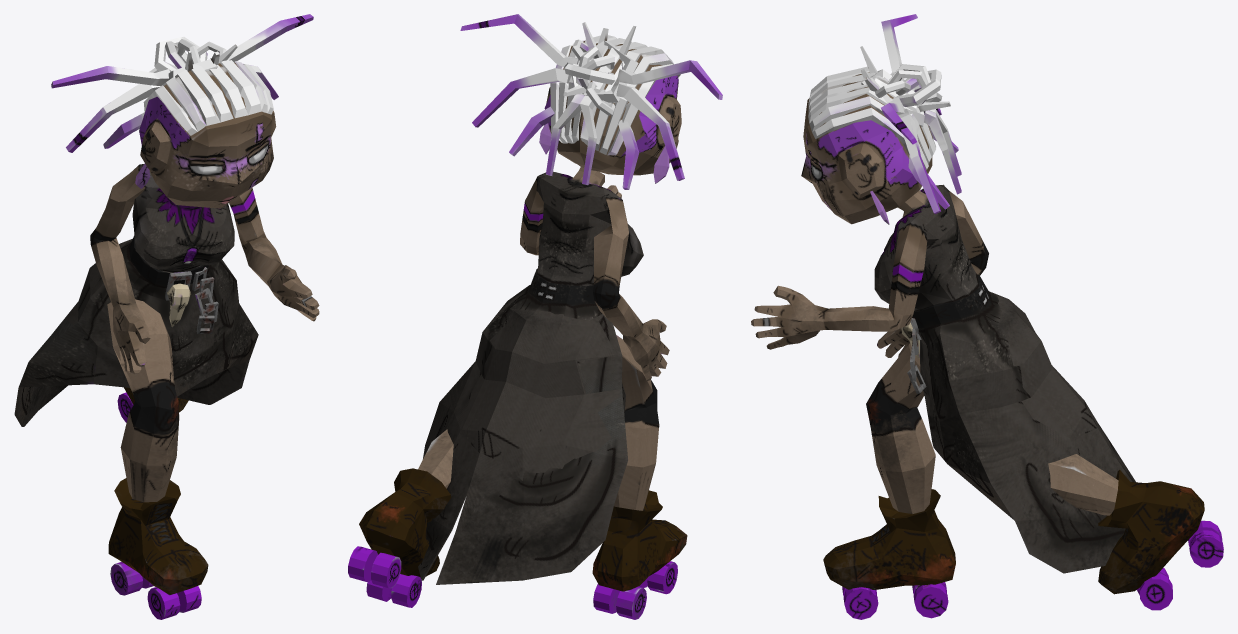
Rendered from bruja_000015.obj.
The picture shows the model from 3 angles, left to right: view 1: azimuth 30°, elevation 25°; view 2: azimuth 150°, elevation 25°; view 3: azimuth 270°, elevation 25°; orthographic projection. The views are drawn at different scales.
Parts seen in each view (by area): view 1: Bruja_Plane.001; view 2: Bruja_Plane.001; view 3: Bruja_Plane.001.
Part boxes in pixels (x1=…): Bruja_Plane.001: x1=14, y1=14, x2=319, y2=619; Bruja_Plane.001: x1=348, y1=14, x2=722, y2=619; Bruja_Plane.001: x1=751, y1=14, x2=1223, y2=619.
Size of the model in its own units: 7.48 by 15.28 by 11.42.
